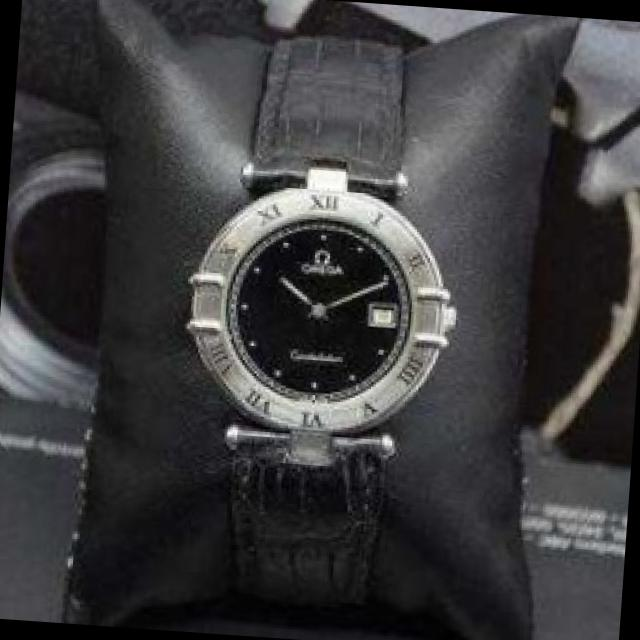saat: (156, 21, 482, 630)
